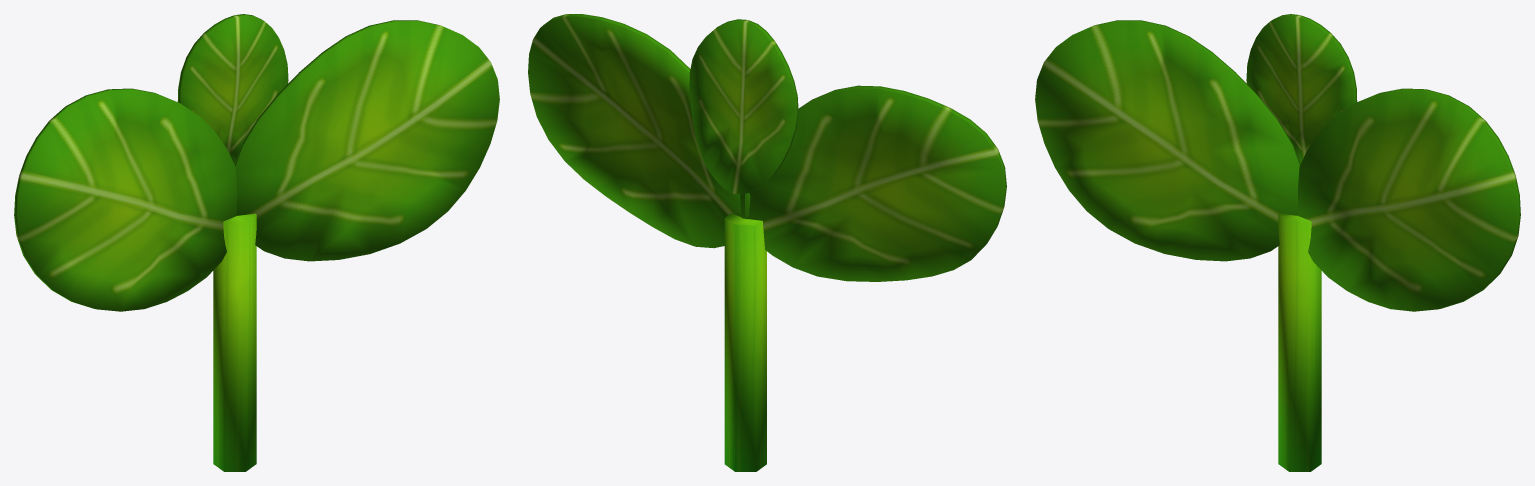
Rendered from NP_Pea_Sprout.fbx.
The picture shows the model from 3 angles, left to right: view 1: azimuth 30°, elevation 25°; view 2: azimuth 150°, elevation 25°; view 3: azimuth 330°, elevation 25°; orthographic projection.
Visible parts, largest first — view 1: NP_Pea_Sprout; view 2: NP_Pea_Sprout; view 3: NP_Pea_Sprout.
Part boxes in pixels (box(x1,y1,x2,y2)): NP_Pea_Sprout: box(14, 14, 499, 471); NP_Pea_Sprout: box(528, 14, 1006, 471); NP_Pea_Sprout: box(1035, 14, 1520, 471).
Size of the model in its own units: 20.65 by 18.33 by 2.87.
